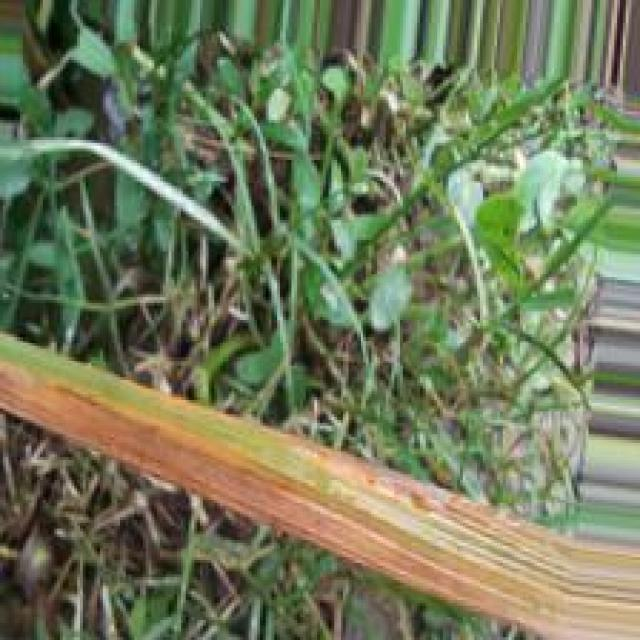Bacterial_Leaf_Blight: (0, 362, 640, 640)
